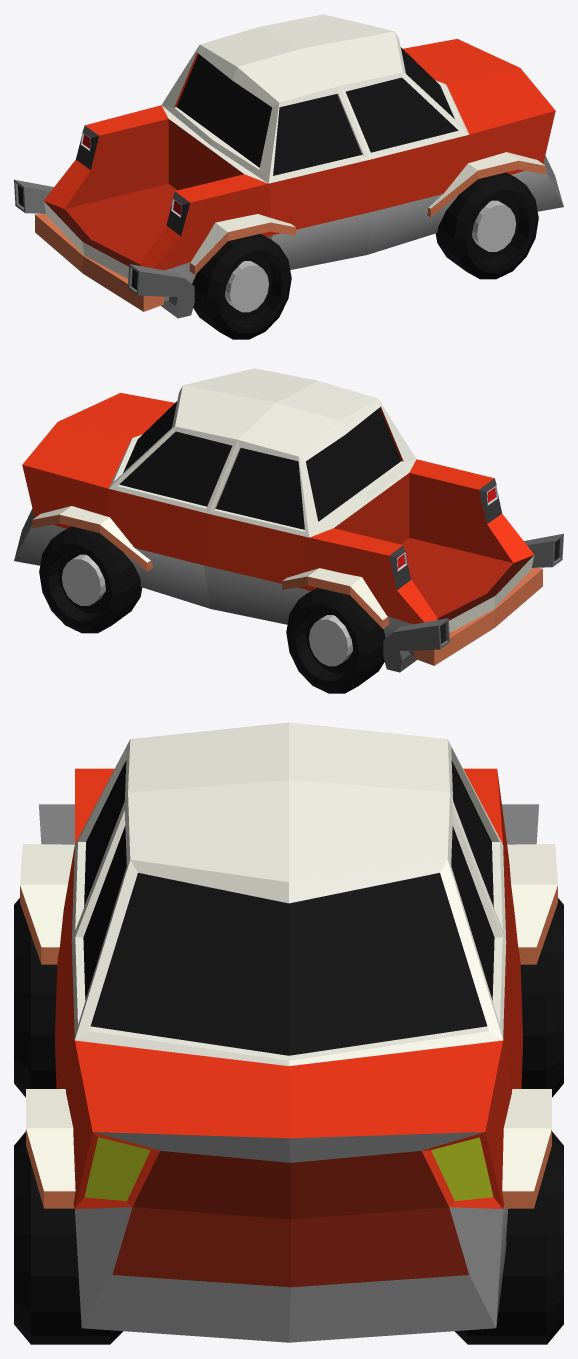
File: PickUpTruck.fbx
3 views of the same model, one above another, from view 1: azimuth 30°, elevation 25°; view 2: azimuth 150°, elevation 25°; view 3: azimuth 270°, elevation 25° (orthographic). The views are drawn at different scales.
Parts seen in each view (by area): view 1: PickupTruck; view 2: PickupTruck; view 3: PickupTruck.
Boxes of the visible parts, x1=… form: PickupTruck: x1=14, y1=14, x2=563, y2=339; PickupTruck: x1=14, y1=368, x2=563, y2=693; PickupTruck: x1=14, y1=722, x2=563, y2=1344.
Bounding box in the file's own units: 5.78 × 2.64 × 3.06.
